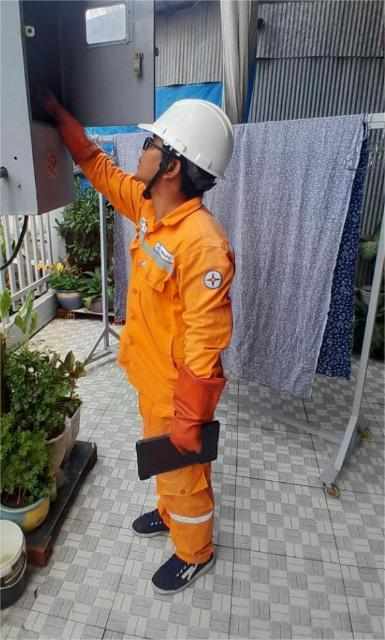gloves: (31, 74, 111, 176), (165, 357, 232, 461)
helmet: (141, 94, 257, 187)
shoes: (148, 544, 227, 602), (123, 499, 182, 538)
